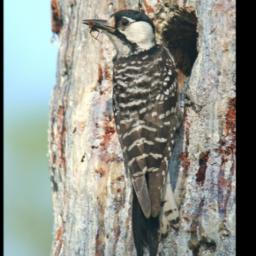Woodpecker: (81, 8, 206, 256)
